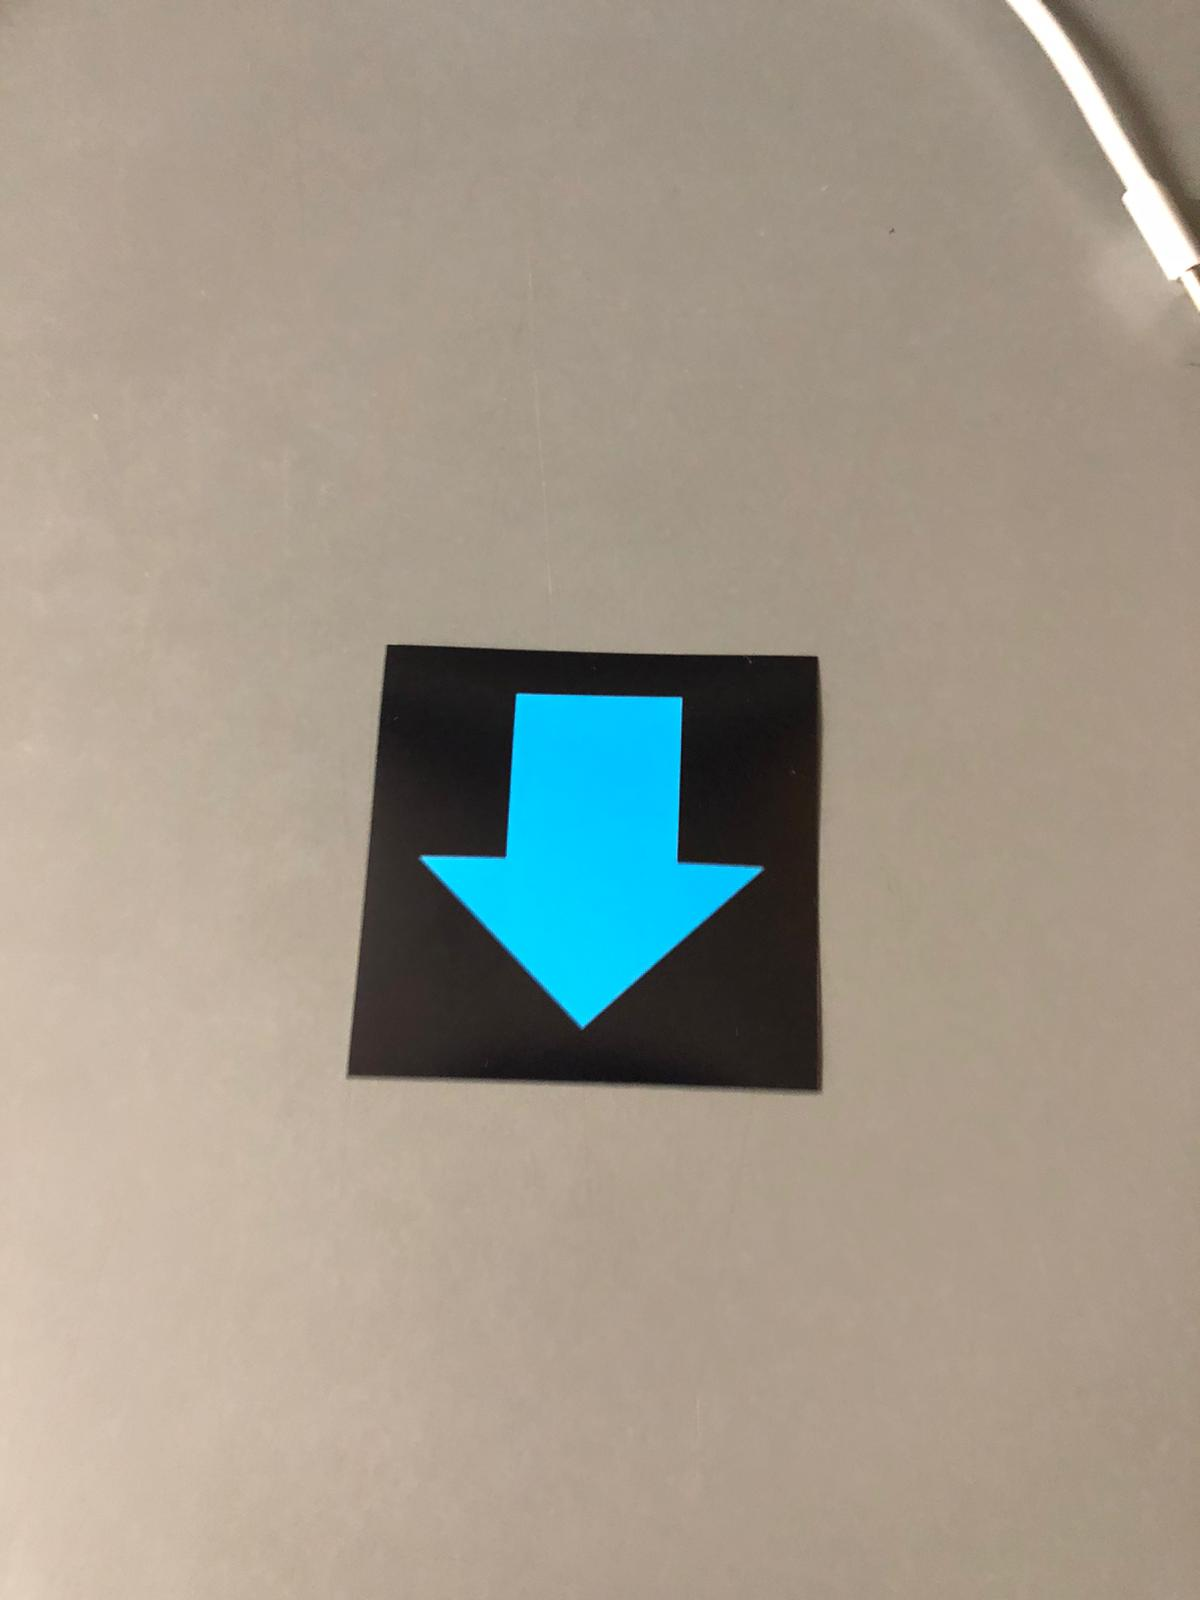Down Arrow: (369, 643, 790, 1073)
